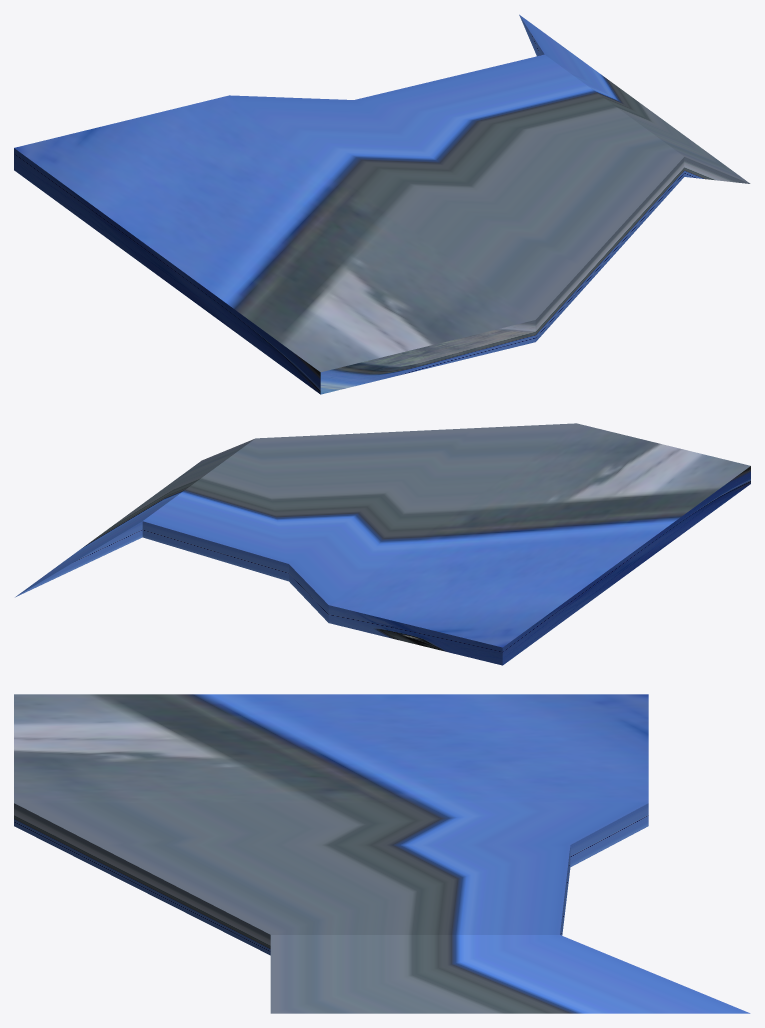
The picture shows the model from 3 angles, top to bottom: view 1: azimuth 30°, elevation 25°; view 2: azimuth 150°, elevation 25°; view 3: azimuth 270°, elevation 25°; orthographic projection. The views are drawn at different scales.
Visible parts, largest first — view 1: Wing-3.003_Cube.042; view 2: Wing-3.003_Cube.042; view 3: Wing-3.003_Cube.042.
Boxes of the visible parts, <box> form: Wing-3.003_Cube.042: <box>14,14,750,394</box>; Wing-3.003_Cube.042: <box>15,423,750,665</box>; Wing-3.003_Cube.042: <box>14,694,750,1013</box>.
Bounding box in the file's own units: 5.76 × 0.4323 × 6.4.
